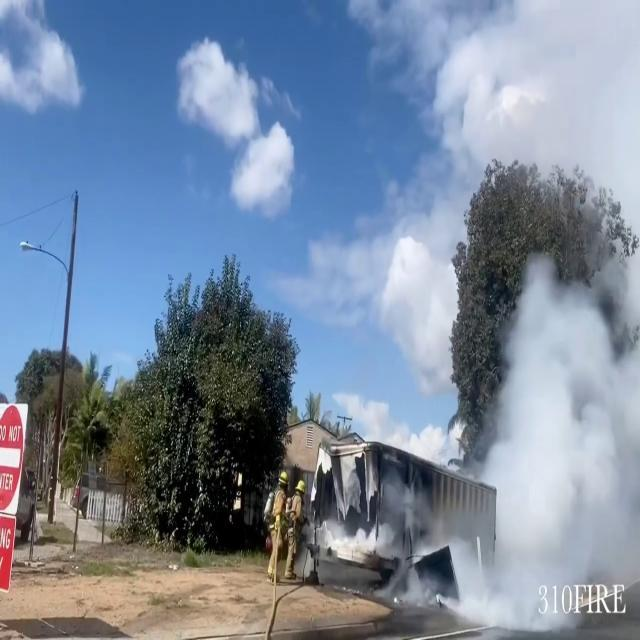Smoke: (463, 102, 640, 620)
